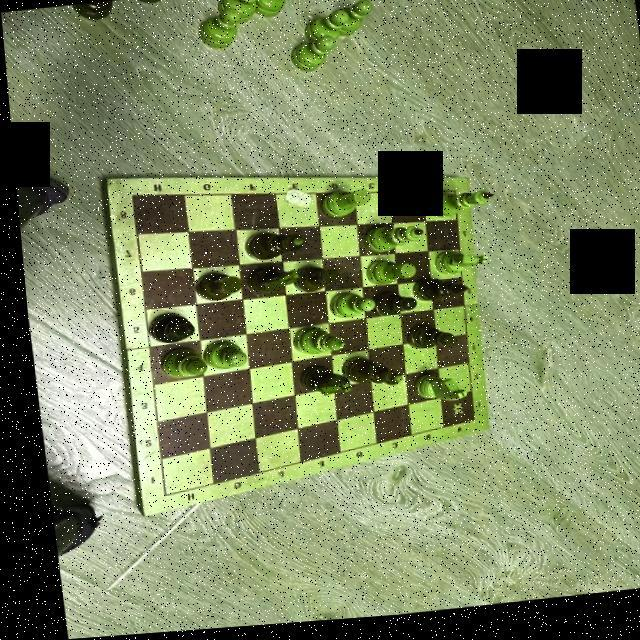chess-table-corners: (150, 492, 162, 501), (124, 192, 132, 200), (462, 422, 468, 428), (447, 194, 453, 198)
